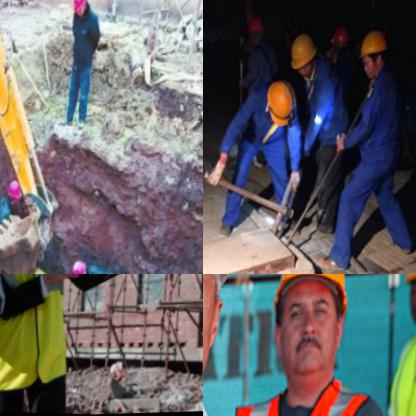helmet: (259, 274, 356, 403), (203, 274, 247, 416), (357, 25, 392, 82), (264, 79, 300, 130), (286, 31, 321, 82), (326, 22, 352, 66), (6, 179, 24, 211), (68, 256, 92, 274), (69, 0, 87, 17)
